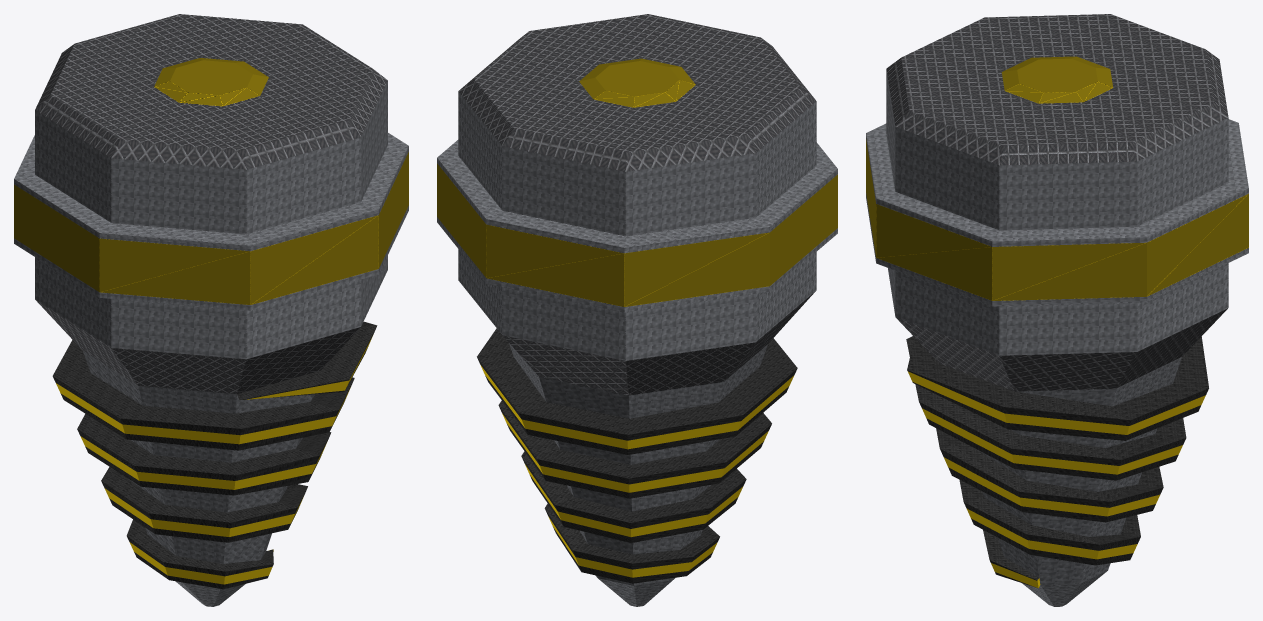
File: DrillV2.fbx
3 renders of one model, left to right at view 1: azimuth 30°, elevation 25°; view 2: azimuth 150°, elevation 25°; view 3: azimuth 270°, elevation 25°, orthographic.
Parts seen in each view (by area): view 1: DrillBase, Drill; view 2: DrillBase, Drill; view 3: DrillBase, Drill.
Boxes of the visible parts, x1=… form: DrillBase: x1=35, y1=14, x2=387, y2=393; Drill: x1=14, y1=133, x2=408, y2=606; DrillBase: x1=458, y1=14, x2=816, y2=395; Drill: x1=437, y1=140, x2=837, y2=606; DrillBase: x1=886, y1=14, x2=1228, y2=391; Drill: x1=866, y1=119, x2=1248, y2=606.
Size of the model in its own units: 2648 by 4026 by 2648.
